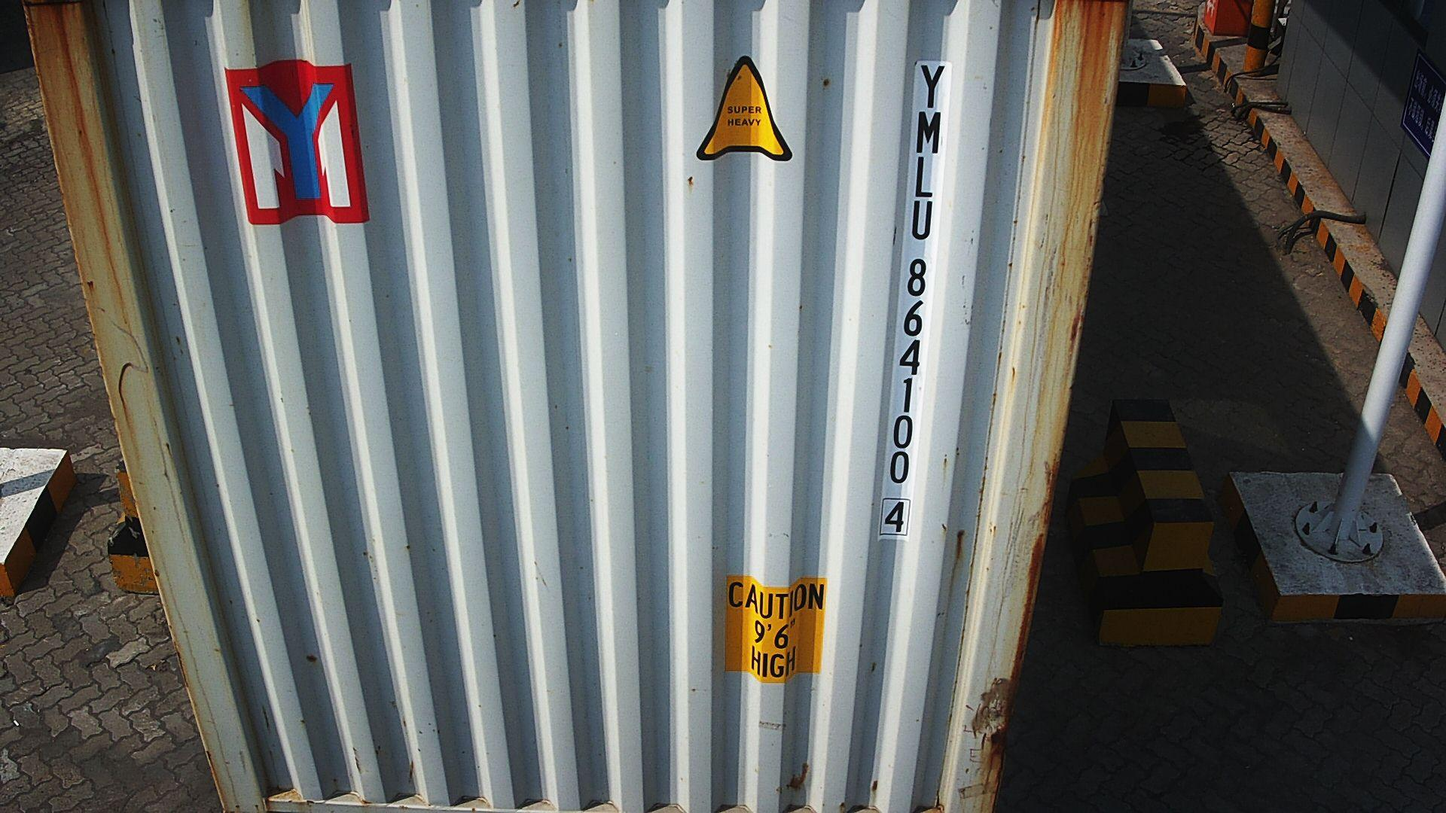container-numbers: (876, 53, 947, 540)
